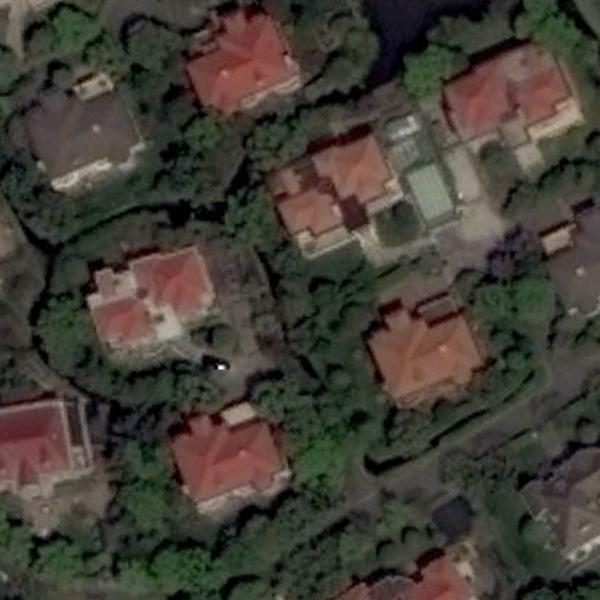Buildings: (17, 85, 145, 184), (449, 59, 575, 159), (89, 255, 212, 344), (199, 0, 289, 118), (177, 404, 275, 508), (268, 150, 384, 225), (0, 399, 89, 488), (532, 446, 600, 554), (389, 309, 475, 394), (549, 214, 600, 304), (352, 579, 461, 600)
